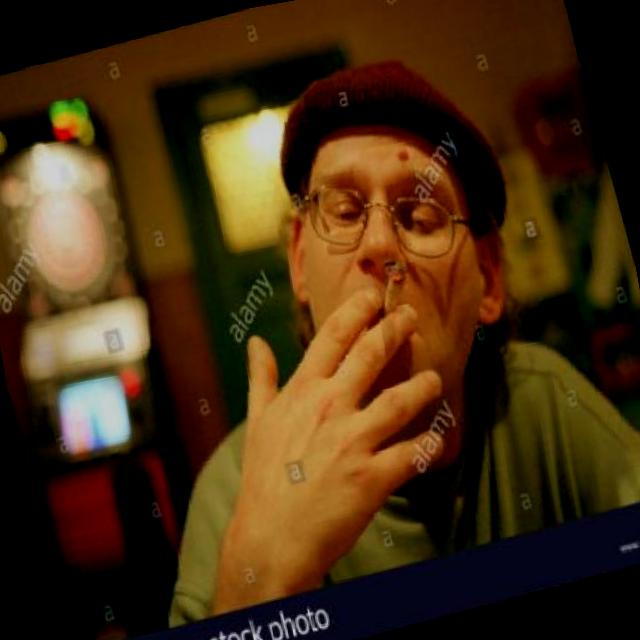smoke: (371, 260, 422, 322)
